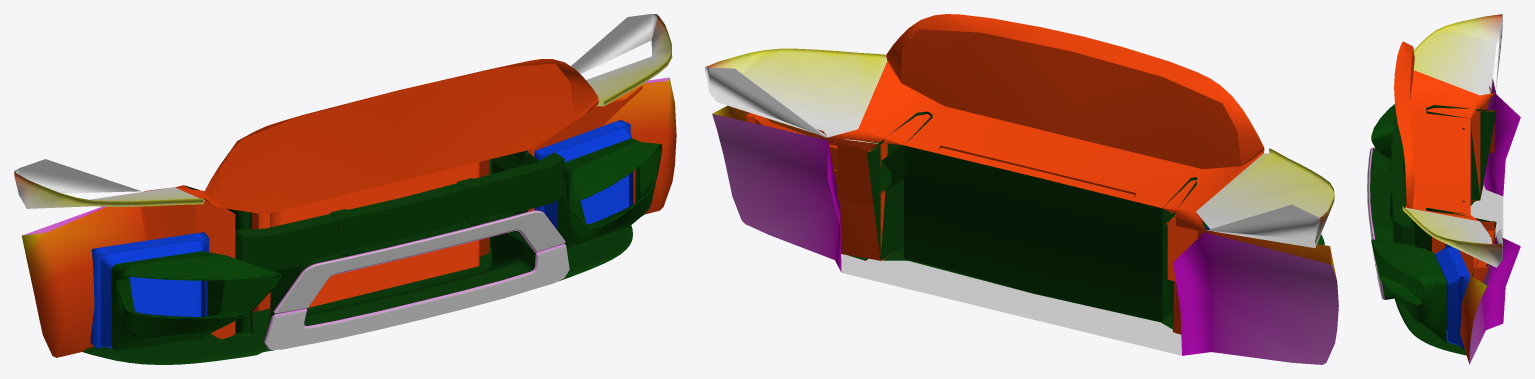
Rendered from Car_Mini_CountrymanJCW_2017_BumperChassisF_SetE_AltC.fbx.
3 renders of one model, left to right at view 1: azimuth 30°, elevation 25°; view 2: azimuth 150°, elevation 25°; view 3: azimuth 270°, elevation 25°, orthographic. The views are drawn at different scales.
Parts seen in each view (by area): view 1: BumperChassisF 6; view 2: BumperChassisF 6; view 3: BumperChassisF 6.
Part boxes in pixels (x1,y1,x2,y2): BumperChassisF 6: (14,14,676,364); BumperChassisF 6: (705,14,1338,364); BumperChassisF 6: (1367,14,1520,364).
Size of the model in its own units: 1.75 by 0.6086 by 0.4917.
